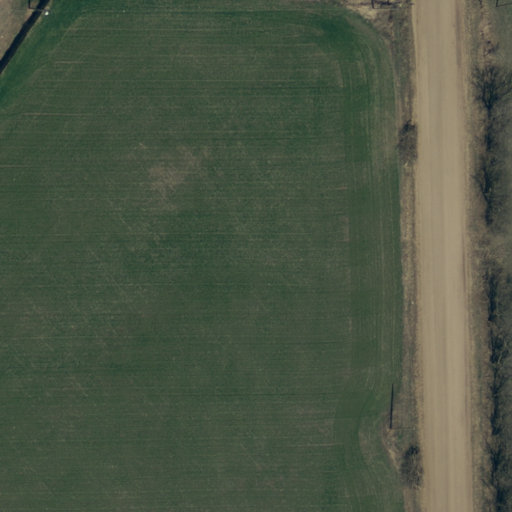DT: (382, 416, 417, 443)
